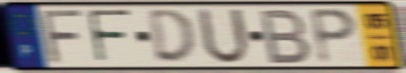B: (259, 7, 314, 66)
D: (145, 7, 199, 66)
F: (85, 8, 134, 66), (40, 8, 88, 66)
P: (307, 6, 360, 67)
U: (195, 6, 253, 67)
